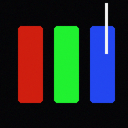4 line_v: (105, 3, 107, 53)
